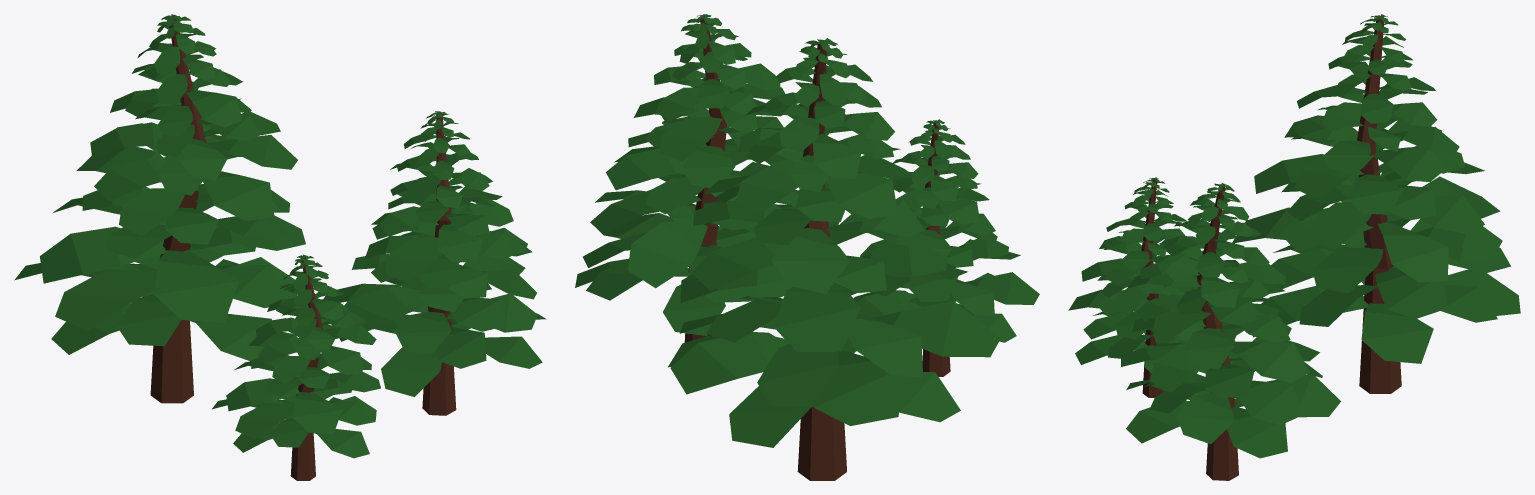
Rendered from forest_chunk.fbx.
The picture shows the model from 3 angles, left to right: view 1: azimuth 30°, elevation 25°; view 2: azimuth 150°, elevation 25°; view 3: azimuth 270°, elevation 25°; orthographic projection. The views are drawn at different scales.
Parts seen in each view (by area): view 1: forest_full; view 2: forest_full; view 3: forest_full.
Part boxes in pixels (x1=…): forest_full: x1=14, y1=14, x2=546, y2=480; forest_full: x1=575, y1=14, x2=1039, y2=480; forest_full: x1=1068, y1=14, x2=1520, y2=480.
Size of the model in its own units: 698 by 613 by 680.
